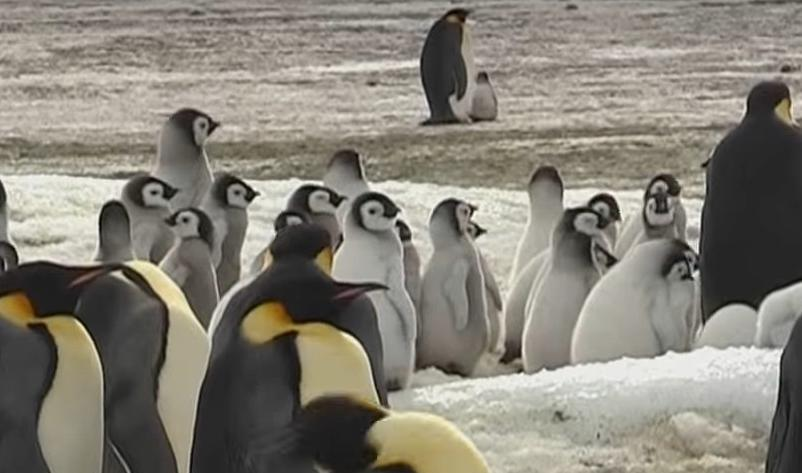Emperor Penguin: (204, 211, 384, 473), (0, 248, 141, 473), (698, 75, 802, 325), (236, 386, 528, 473), (405, 2, 486, 128)
